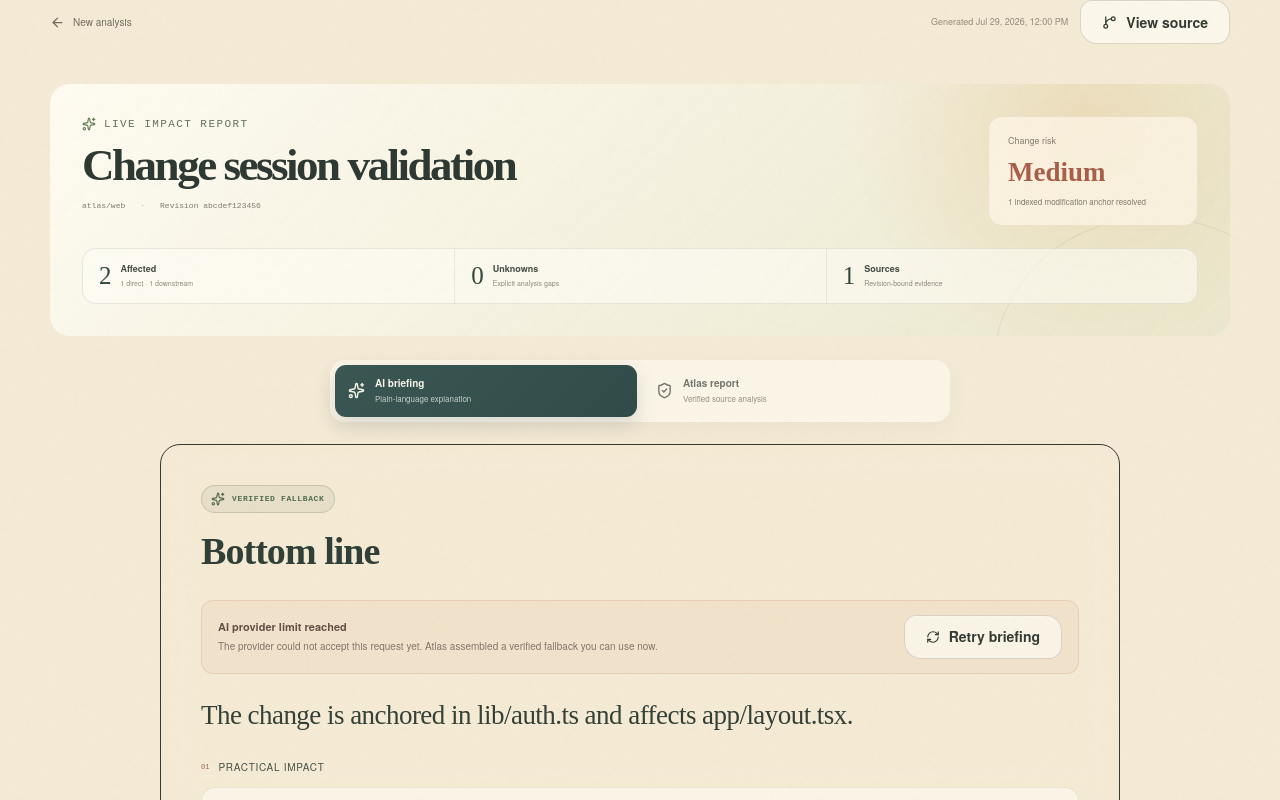
ImpactReportPage › retries a failed explanation without hiding the verified report
Expected: the text "AI provider limit reached" is shown, [218,619,347,634]
Click the button "Retry briefing" at (983, 637), box [904,615,1062,659]
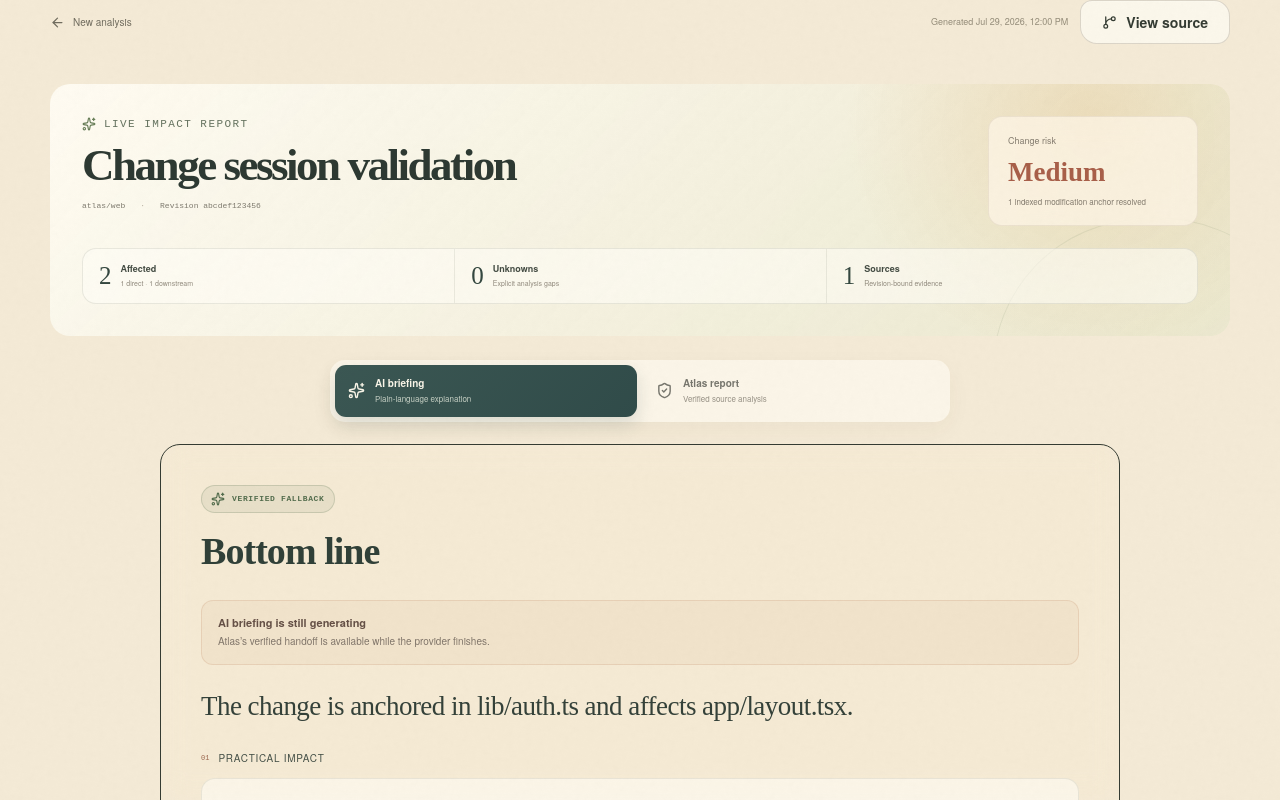
Expected: the tab "Atlas report Verified source analysis" is shown, [643,365,945,417]
Now the text "AI briefing is still generating" is shown, box [218,615,366,630]
